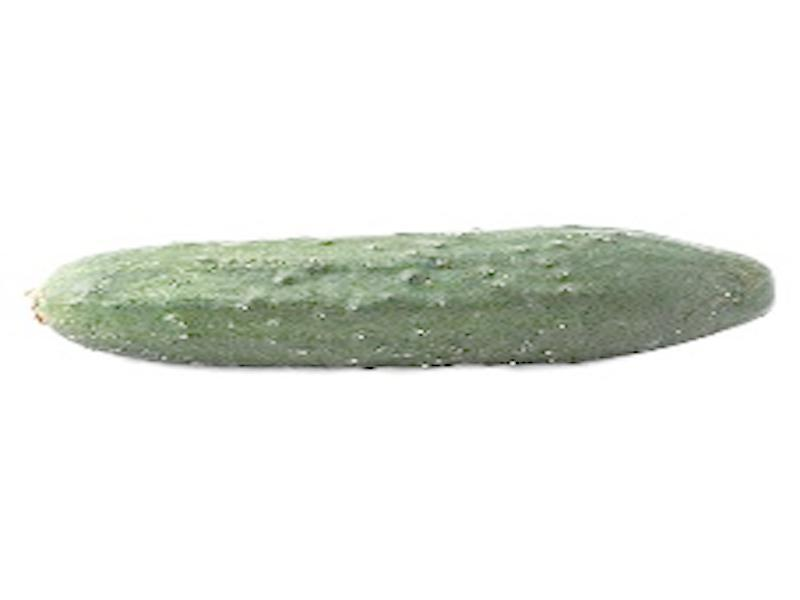Cucumber: (28, 227, 775, 367)
